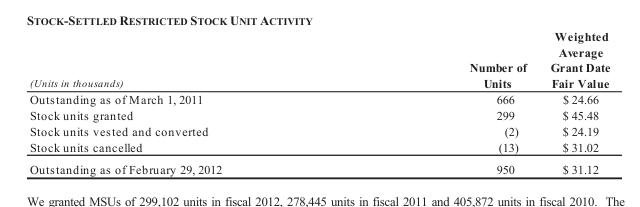table: (28, 28, 609, 175)
table column: (28, 28, 345, 175), (345, 28, 537, 175), (537, 28, 609, 175)
table column header: (28, 28, 609, 91)
table row: (28, 28, 609, 91), (28, 138, 609, 157), (28, 157, 609, 175), (28, 106, 609, 122), (28, 122, 609, 138), (28, 91, 609, 106)
